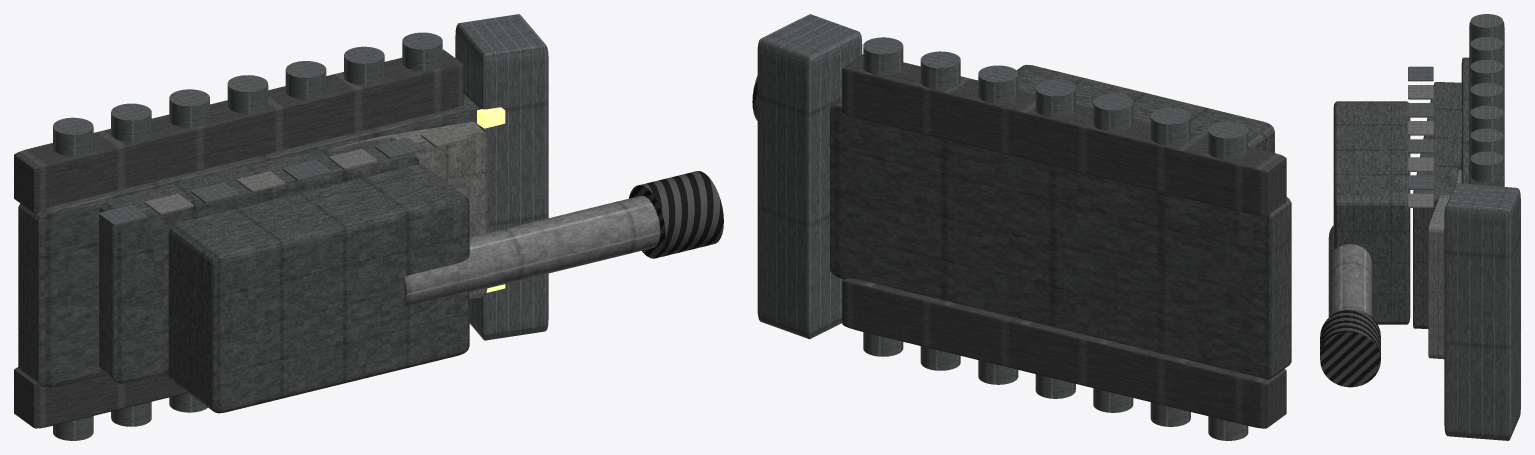
Rendered from c-u13-juggernaut-lod0.glb.
3 views of the same model, side by side, from view 1: azimuth 30°, elevation 25°; view 2: azimuth 150°, elevation 25°; view 3: azimuth 270°, elevation 25° (orthographic). The views are drawn at different scales.
Parts seen in each view (by area): view 1: juggernaut_turret, chassis_track_1, juggernaut_dozer, chassis_lower, upper_hull, juggernaut_main_barrel_0, chassis_track_-1, juggernaut_main_muzzle_0, chassis_glacis, chassis_roadwheel_1_3, chassis_roadwheel_1_4, chassis_roadwheel_1_5 (+6 smaller); view 2: chassis_lower, chassis_track_1, juggernaut_dozer, chassis_track_-1, juggernaut_turret, chassis_roadwheel_1_0, chassis_roadwheel_1_1, chassis_roadwheel_1_5, chassis_roadwheel_1_2, chassis_roadwheel_1_3, chassis_roadwheel_1_6, chassis_roadwheel_1_4 (+7 smaller); view 3: juggernaut_dozer, juggernaut_turret, upper_hull, juggernaut_main_muzzle_0, juggernaut_main_barrel_0, chassis_glacis, chassis_lower, chassis_roadwheel_1_6, chassis_track_1, chassis_roadwheel_1_3, chassis_roadwheel_1_4, chassis_roadwheel_1_5 (+11 smaller).
Part boxes in pixels (left/top/right/bottom): juggernaut_turret: left=168, top=164, right=469, bottom=413; chassis_track_1: left=14, top=49, right=463, bottom=213; juggernaut_dozer: left=455, top=14, right=548, bottom=340; chassis_lower: left=18, top=94, right=479, bottom=387; upper_hull: left=99, top=137, right=419, bottom=383; juggernaut_main_barrel_0: left=404, top=195, right=660, bottom=306; chassis_track_-1: left=14, top=367, right=187, bottom=428; juggernaut_main_muzzle_0: left=629, top=171, right=723, bottom=258; chassis_glacis: left=327, top=122, right=487, bottom=299; chassis_roadwheel_1_3: left=227, top=75, right=268, bottom=113; chassis_roadwheel_1_4: left=285, top=61, right=326, bottom=99; chassis_roadwheel_1_5: left=344, top=46, right=384, bottom=85; chassis_lower: left=830, top=99, right=1291, bottom=379; chassis_track_1: left=842, top=54, right=1286, bottom=216; juggernaut_dozer: left=757, top=14, right=862, bottom=339; chassis_track_-1: left=842, top=278, right=1286, bottom=428; juggernaut_turret: left=1016, top=65, right=1274, bottom=152; chassis_roadwheel_1_0: left=1208, top=121, right=1248, bottom=159; chassis_roadwheel_1_1: left=1150, top=107, right=1190, bottom=145; chassis_roadwheel_1_5: left=920, top=51, right=960, bottom=89; chassis_roadwheel_1_2: left=1093, top=93, right=1133, bottom=131; chassis_roadwheel_1_3: left=1035, top=79, right=1075, bottom=117; chassis_roadwheel_1_6: left=863, top=37, right=903, bottom=75; chassis_roadwheel_1_4: left=978, top=65, right=1018, bottom=103; juggernaut_dozer: left=1444, top=183, right=1520, bottom=440; juggernaut_turret: left=1333, top=101, right=1410, bottom=324; upper_hull: left=1413, top=82, right=1461, bottom=328; juggernaut_main_muzzle_0: left=1320, top=309, right=1380, bottom=387; juggernaut_main_barrel_0: left=1328, top=225, right=1372, bottom=317; chassis_glacis: left=1428, top=169, right=1461, bottom=359; chassis_lower: left=1461, top=57, right=1469, bottom=184; chassis_roadwheel_1_6: left=1470, top=151, right=1503, bottom=182; chassis_track_1: left=1469, top=21, right=1504, bottom=186; chassis_roadwheel_1_3: left=1470, top=82, right=1503, bottom=109; chassis_roadwheel_1_4: left=1470, top=105, right=1503, bottom=132; chassis_roadwheel_1_5: left=1470, top=128, right=1503, bottom=155.
Size of what is drawn, in the model's own units: 11.86 by 5.82 by 4.29.
7 materials, 7 textured.
